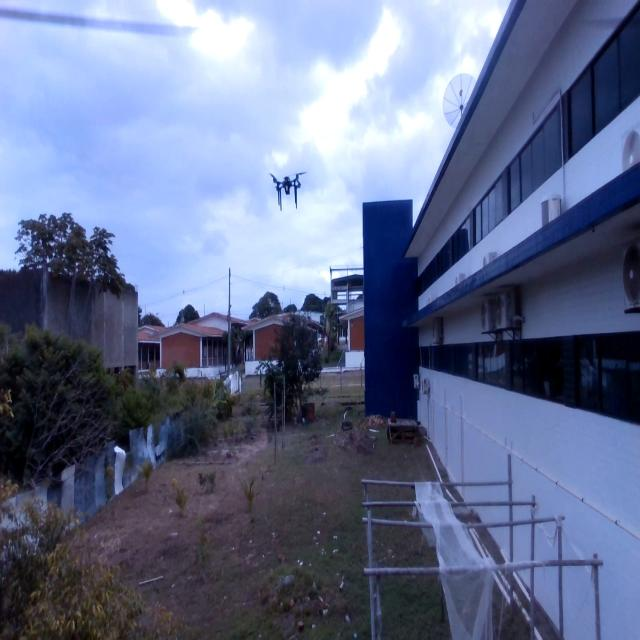-uav-: (266, 161, 307, 218)
